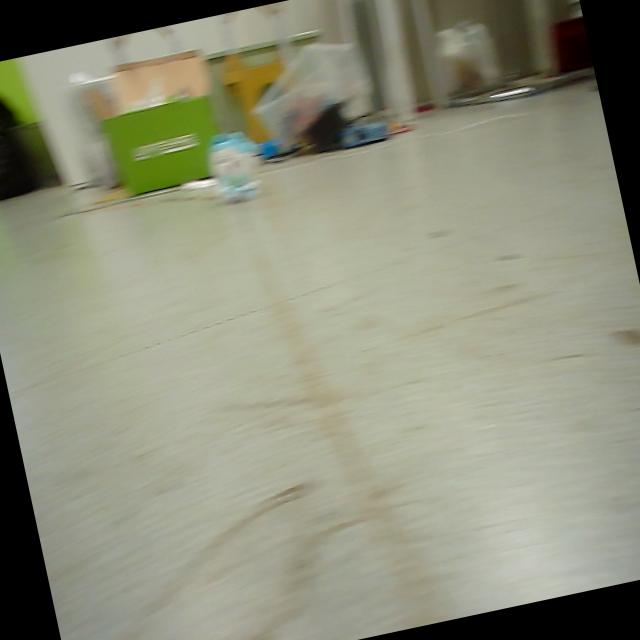xiaoba: (196, 119, 270, 208)
